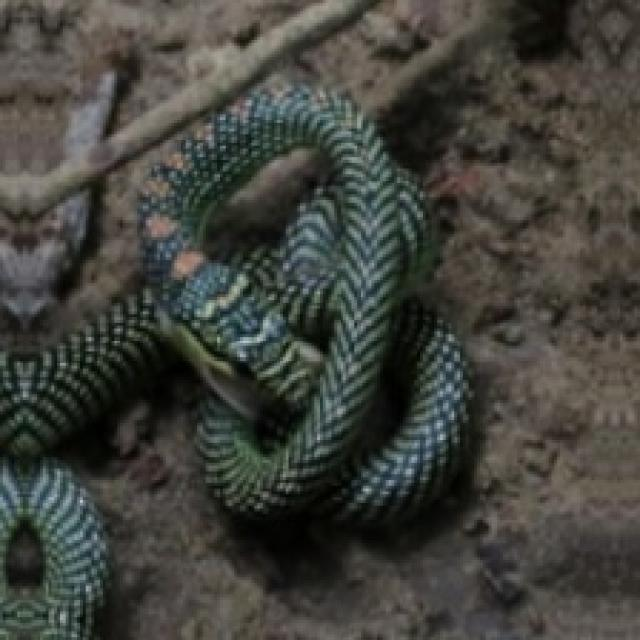paradise tree snake: (0, 89, 466, 637)
